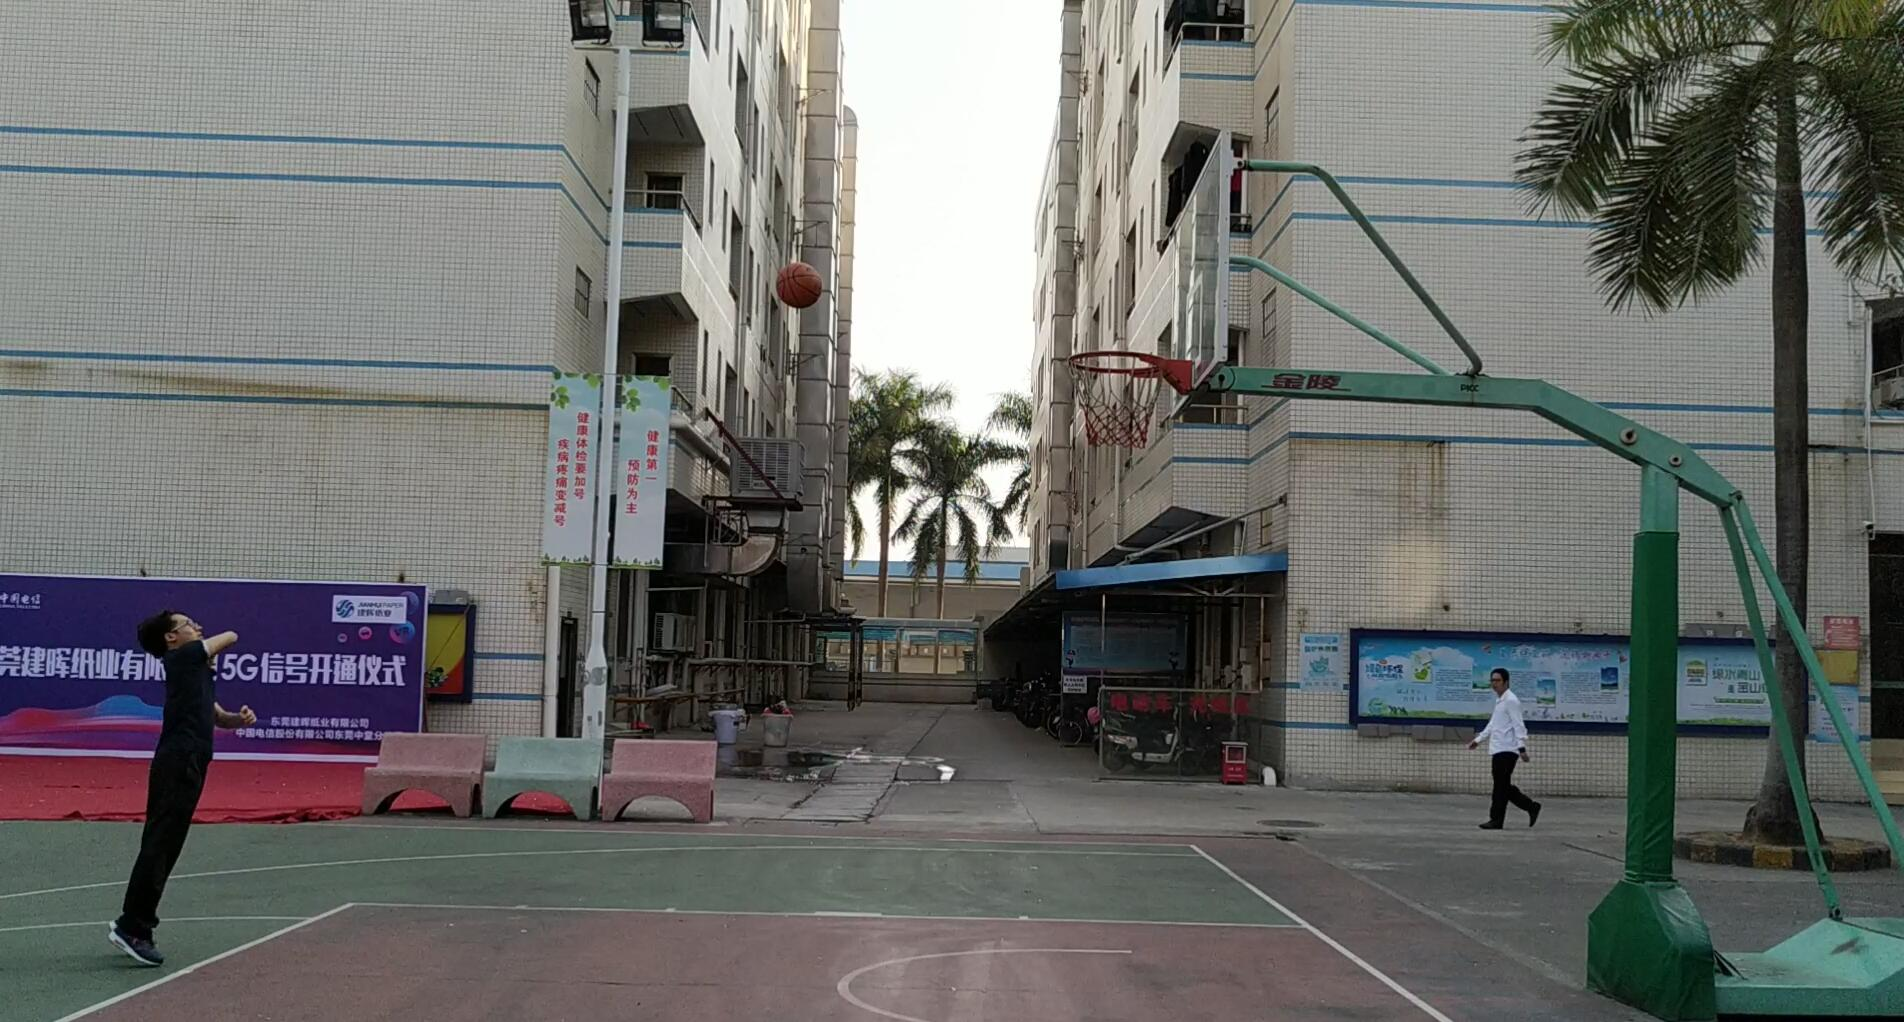basketball: (776, 257, 824, 312)
